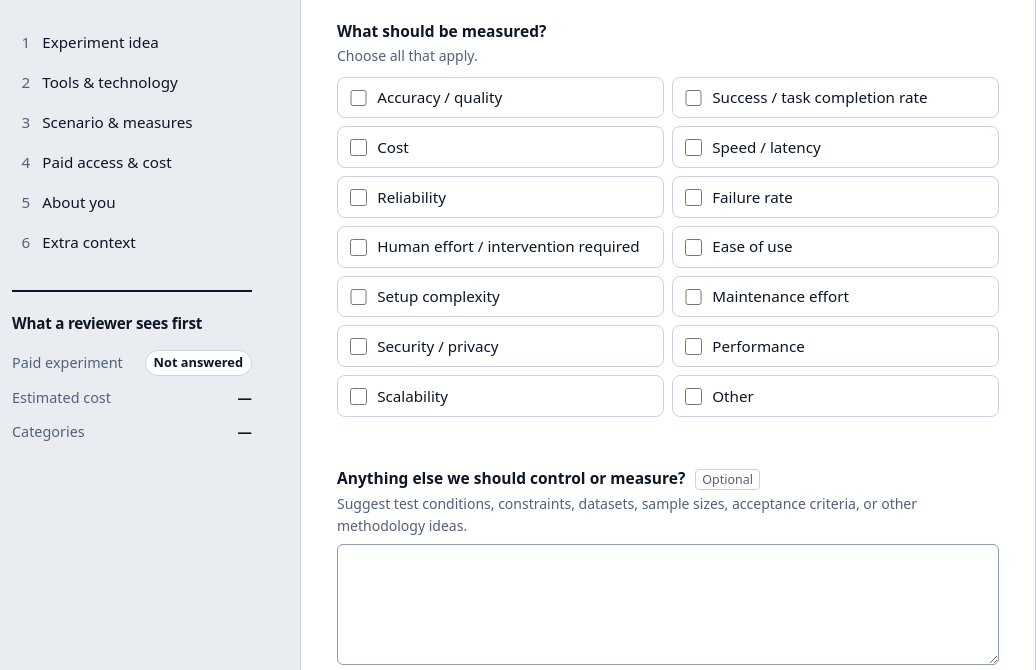
it: conditional paid-resource fields › shows the custom metric field only when "Other" is selected
The width and height of the screenshot is (1036, 670).
(page scrolled)
Expected: the field labelled "Other metric" is not shown
Click the checkbox labelled "Other" at (693, 396), box [685,388,702,405]
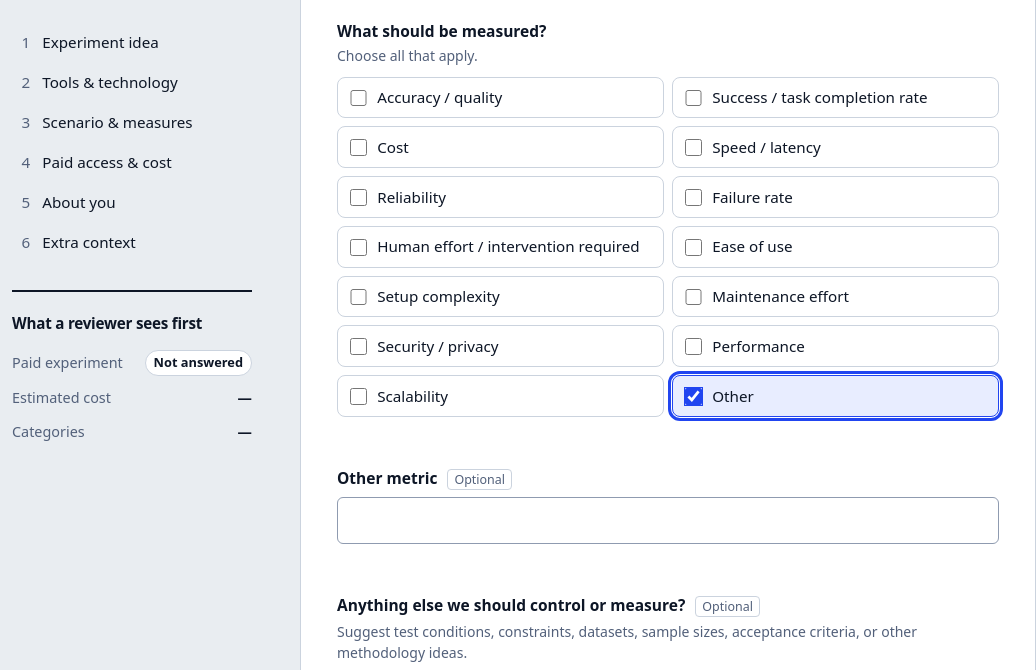
Now the field labelled "Other metric" is shown, box [337,497,999,544]
